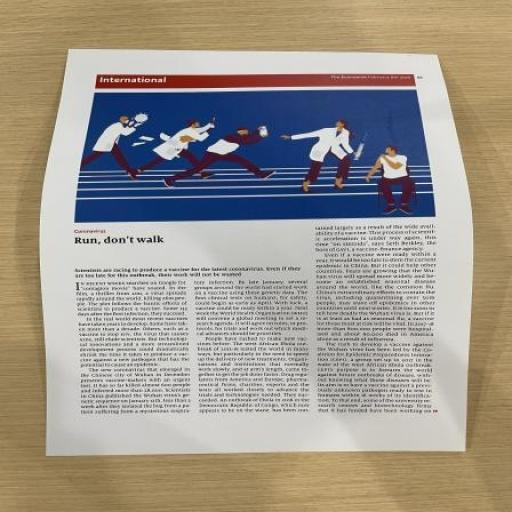paper: (5, 20, 512, 477)
